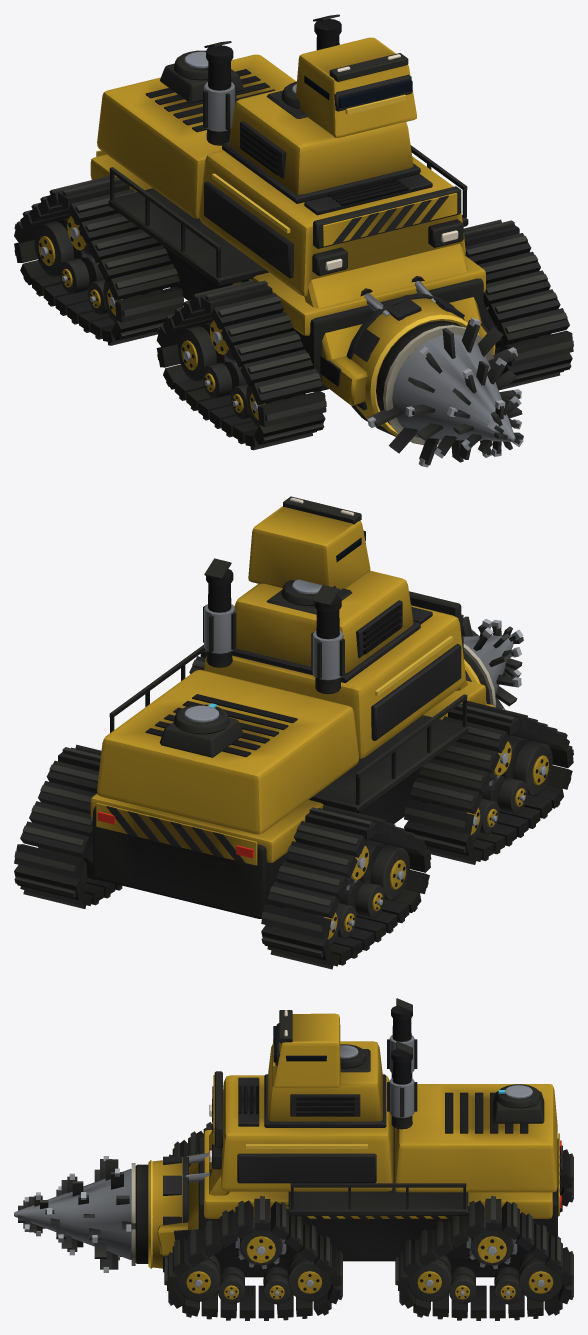
Rendered from ex_crawler_5.glb.
The picture shows the model from 3 angles, top to bottom: view 1: azimuth 30°, elevation 25°; view 2: azimuth 150°, elevation 25°; view 3: azimuth 270°, elevation 25°; orthographic projection. The views are drawn at different scales.
Visible parts, largest first — view 1: body, drill, wheel_7, wheel_17, wheel_8, wheel_18; view 2: body, drill, wheel_6, wheel_16, wheel_9, wheel_19; view 3: body, drill, wheel_12, wheel_2, wheel_1, wheel_11, wheel_0, wheel_10, wheel_13, wheel_3, wheel_4, wheel_14.
Part boxes in pixels (bbox=[...]): body: bbox=[14, 14, 573, 450]; drill: bbox=[367, 318, 523, 467]; wheel_7: bbox=[177, 322, 226, 381]; wheel_17: bbox=[34, 218, 83, 276]; wheel_8: bbox=[202, 361, 246, 398]; wheel_18: bbox=[60, 257, 103, 294]; body: bbox=[14, 496, 573, 969]; drill: bbox=[460, 614, 523, 709]; wheel_6: bbox=[501, 735, 552, 796]; wheel_16: bbox=[358, 840, 410, 900]; wheel_9: bbox=[480, 775, 527, 813]; wheel_19: bbox=[337, 880, 384, 917]; body: bbox=[148, 998, 573, 1320]; drill: bbox=[14, 1156, 148, 1272]; wheel_12: bbox=[519, 1252, 562, 1301]; wheel_2: bbox=[288, 1252, 331, 1301]; wheel_1: bbox=[177, 1255, 220, 1301]; wheel_11: bbox=[408, 1255, 451, 1301]; wheel_0: bbox=[235, 1219, 286, 1269]; wheel_10: bbox=[466, 1219, 517, 1269]; wheel_13: bbox=[494, 1267, 521, 1304]; wheel_3: bbox=[263, 1267, 290, 1304]; wheel_4: bbox=[217, 1267, 244, 1304]; wheel_14: bbox=[449, 1267, 475, 1304].
Size of the model in its own units: 7.15 by 7.01 by 13.86.
